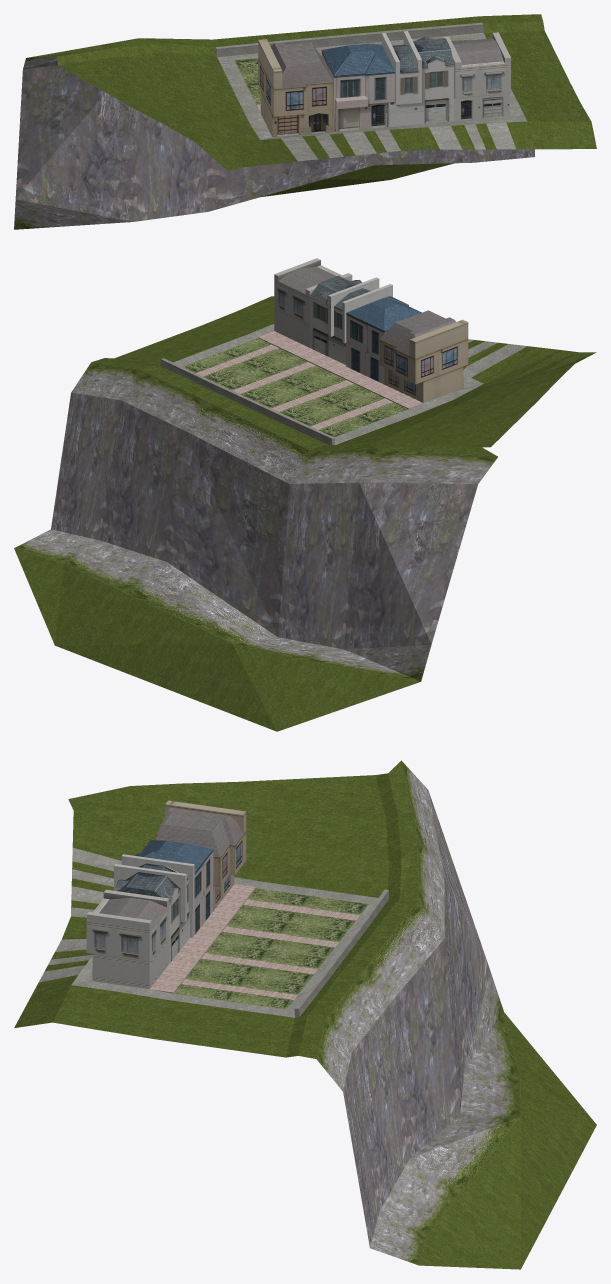
Rendered from sfw_boxwest01.obj.
3 views of the same model, one above another, from view 1: azimuth 30°, elevation 25°; view 2: azimuth 150°, elevation 25°; view 3: azimuth 270°, elevation 25° (orthographic). The views are drawn at different scales.
Parts seen in each view (by area): view 1: sfw_boxwest01; view 2: sfw_boxwest01; view 3: sfw_boxwest01.
Boxes of the visible parts, left/top/right/bottom form: sfw_boxwest01: left=14, top=14, right=596, bottom=229; sfw_boxwest01: left=14, top=258, right=596, bottom=731; sfw_boxwest01: left=14, top=760, right=596, bottom=1269.
Size of the model in its own units: 69.2 by 38.33 by 63.08.
15 materials, 14 textured.
